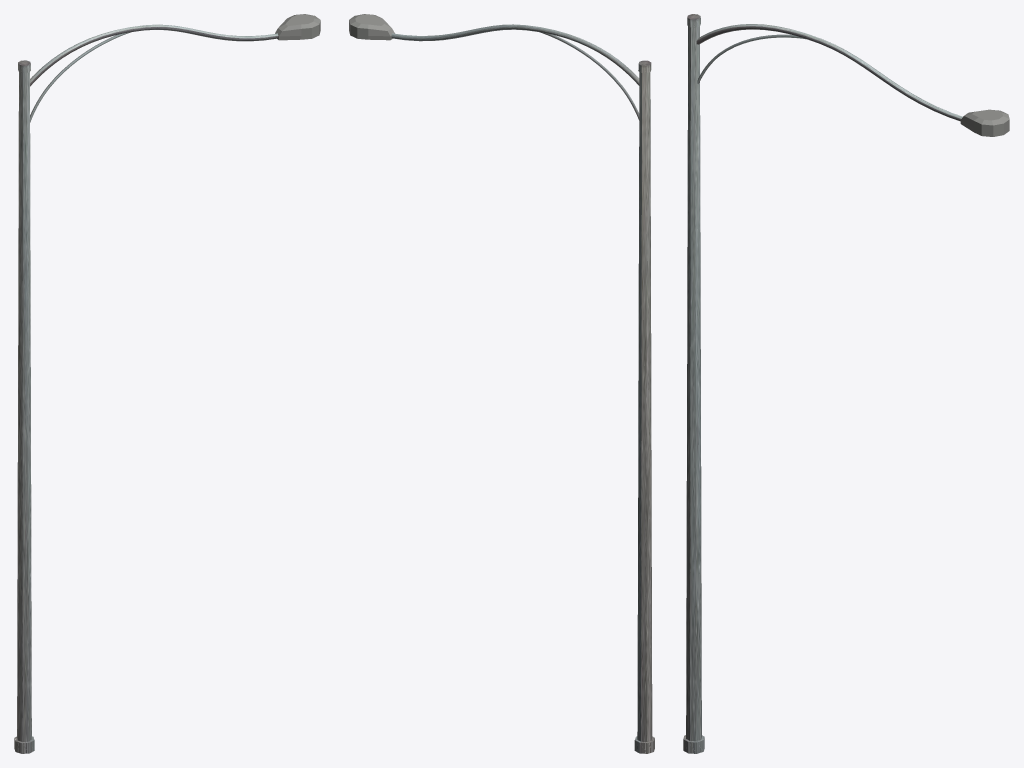
File: SingleSreetlight.glb
3 renders of one model, left to right at view 1: azimuth 30°, elevation 25°; view 2: azimuth 150°, elevation 25°; view 3: azimuth 330°, elevation 25°, orthographic. The views are drawn at different scales.
Visible parts, largest first — view 1: Streetlight; view 2: Streetlight; view 3: Streetlight.
Part boxes in pixels (bbox=[...]): Streetlight: bbox=[14, 14, 320, 753]; Streetlight: bbox=[349, 14, 654, 753]; Streetlight: bbox=[683, 14, 1009, 753].
Size of the model in its own units: 19.71 by 43.45 by 2.
2 materials, 1 textured.
